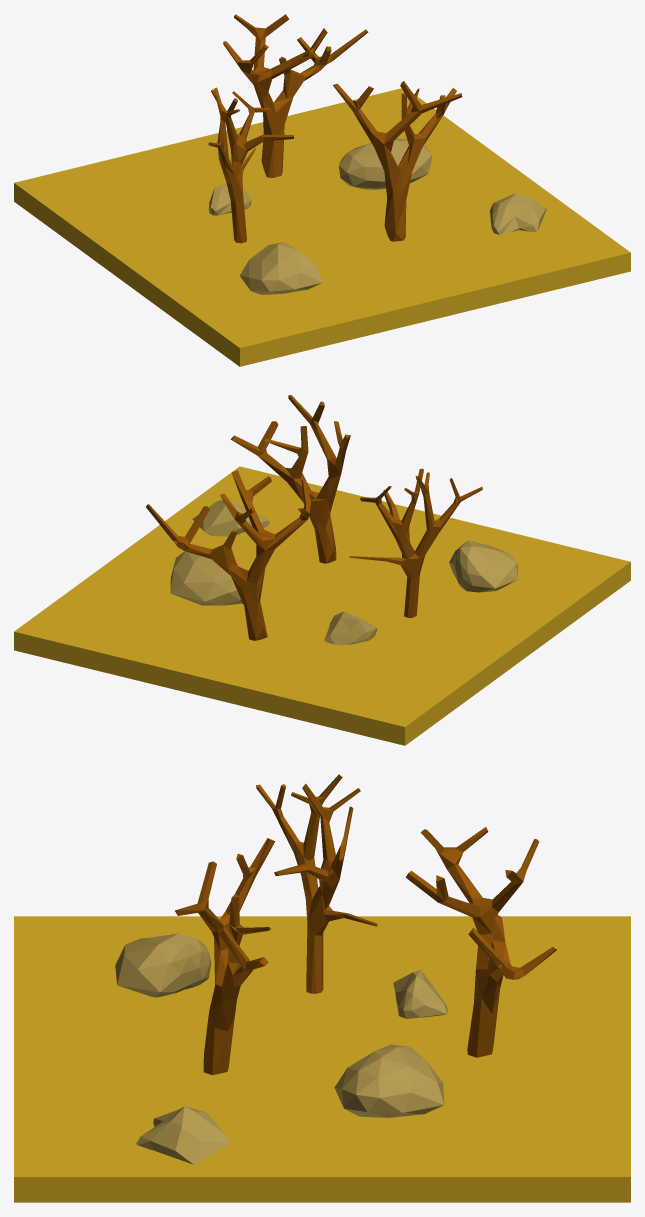
Rendered from desierto.glb.
The picture shows the model from 3 angles, top to bottom: view 1: azimuth 30°, elevation 25°; view 2: azimuth 150°, elevation 25°; view 3: azimuth 270°, elevation 25°; orthographic projection. The views are drawn at different scales.
Parts seen in each view (by area): view 1: Plane, Plane.001, Plane.002, Cube, Icosphere.003, Icosphere, Icosphere.002, Icosphere.001; view 2: Plane, Plane.001, Plane.002, Cube, Icosphere, Icosphere.003, Icosphere.001, Icosphere.002; view 3: Plane, Plane.001, Plane.002, Cube, Icosphere, Icosphere.003, Icosphere.002, Icosphere.001.
Part boxes in pixels (x1,y1,x2,y2): Plane: (14, 88, 630, 366); Plane.001: (223, 14, 368, 177); Plane.002: (333, 81, 462, 241); Cube: (208, 87, 293, 243); Icosphere.003: (239, 242, 322, 294); Icosphere: (339, 138, 432, 189); Icosphere.002: (490, 193, 546, 234); Icosphere.001: (208, 184, 251, 215); Plane: (14, 466, 630, 745); Plane.001: (146, 470, 310, 640); Plane.002: (230, 395, 350, 563); Cube: (349, 468, 482, 617); Icosphere: (170, 551, 242, 605); Icosphere.003: (449, 540, 517, 592); Icosphere.001: (324, 611, 377, 645); Icosphere.002: (192, 498, 269, 536); Plane: (14, 916, 630, 1202); Plane.001: (406, 827, 556, 1057); Plane.002: (174, 838, 275, 1075); Cube: (256, 774, 377, 993); Icosphere: (334, 1044, 444, 1117); Icosphere.003: (115, 933, 211, 997); Icosphere.002: (136, 1106, 230, 1164); Icosphere.001: (393, 970, 447, 1018).
Bounding box in the file's own units: 1958 × 836 × 1958.
Materials: 2 (2 with a texture image).
